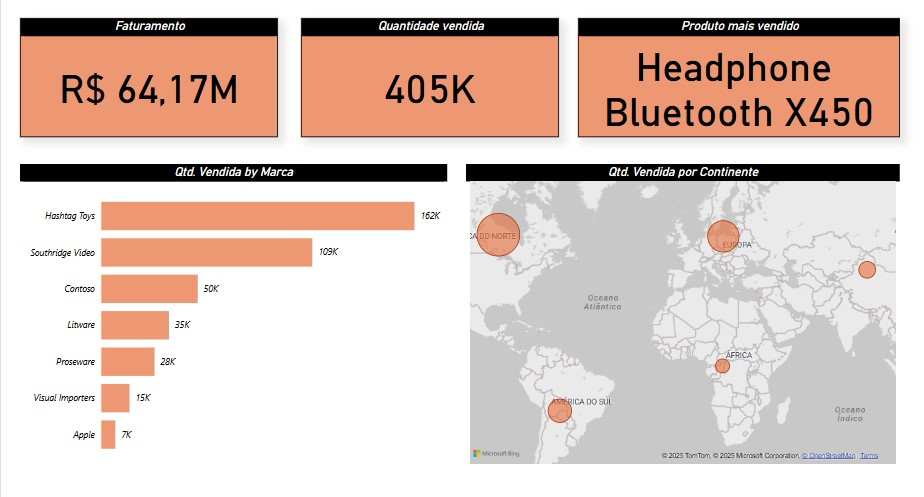

What the dashboard file says about the page in this screenshot:
{"tool":"powerbi","page":{"name":"Page 1","canvas":[1280,720],"ordinal":0},"visuals":[{"type":"card","title":"Faturamento","fields":{"Values":["Sum(Vendas.Faturamento)"]},"box":[26.2,42,355.1,163.8],"z":0},{"type":"card","title":"Quantidade vendida","fields":{"Values":["Sum(Vendas.Qtd. Vendida)"]},"box":[412.9,42,355.1,163.8],"z":1000},{"type":"card","title":"Produto mais vendido","fields":{"Values":["Min(Vendas.Produto)"]},"box":[794.2,42,443.2,163.8],"z":2000},{"type":"barChart","title":"Qtd. Vendida by Marca","fields":{"Category":["Vendas.Marca"],"Y":["Sum(Vendas.Qtd. Vendida)"]},"box":[26.2,243.6,587.7,418.4],"z":3000},{"type":"map","title":"Qtd. Vendida por Continente","fields":{"Category":["Vendas.Continente"],"Size":["Sum(Vendas.Qtd. Vendida)"]},"box":[640,243.6,597.3,418.4],"z":3001}]}

Visuals, with their boxes on the page's 1280x720 design canvas (x1, y1, x2, y2). These are canvas units, not pixel positions in the 924x497 screenshot, which may show the page scaled, cropped or inside an application window:
"Faturamento" card: rect(26, 42, 381, 206)
"Quantidade vendida" card: rect(413, 42, 768, 206)
"Produto mais vendido" card: rect(794, 42, 1237, 206)
"Qtd. Vendida by Marca" barChart: rect(26, 244, 614, 662)
"Qtd. Vendida por Continente" map: rect(640, 244, 1237, 662)
